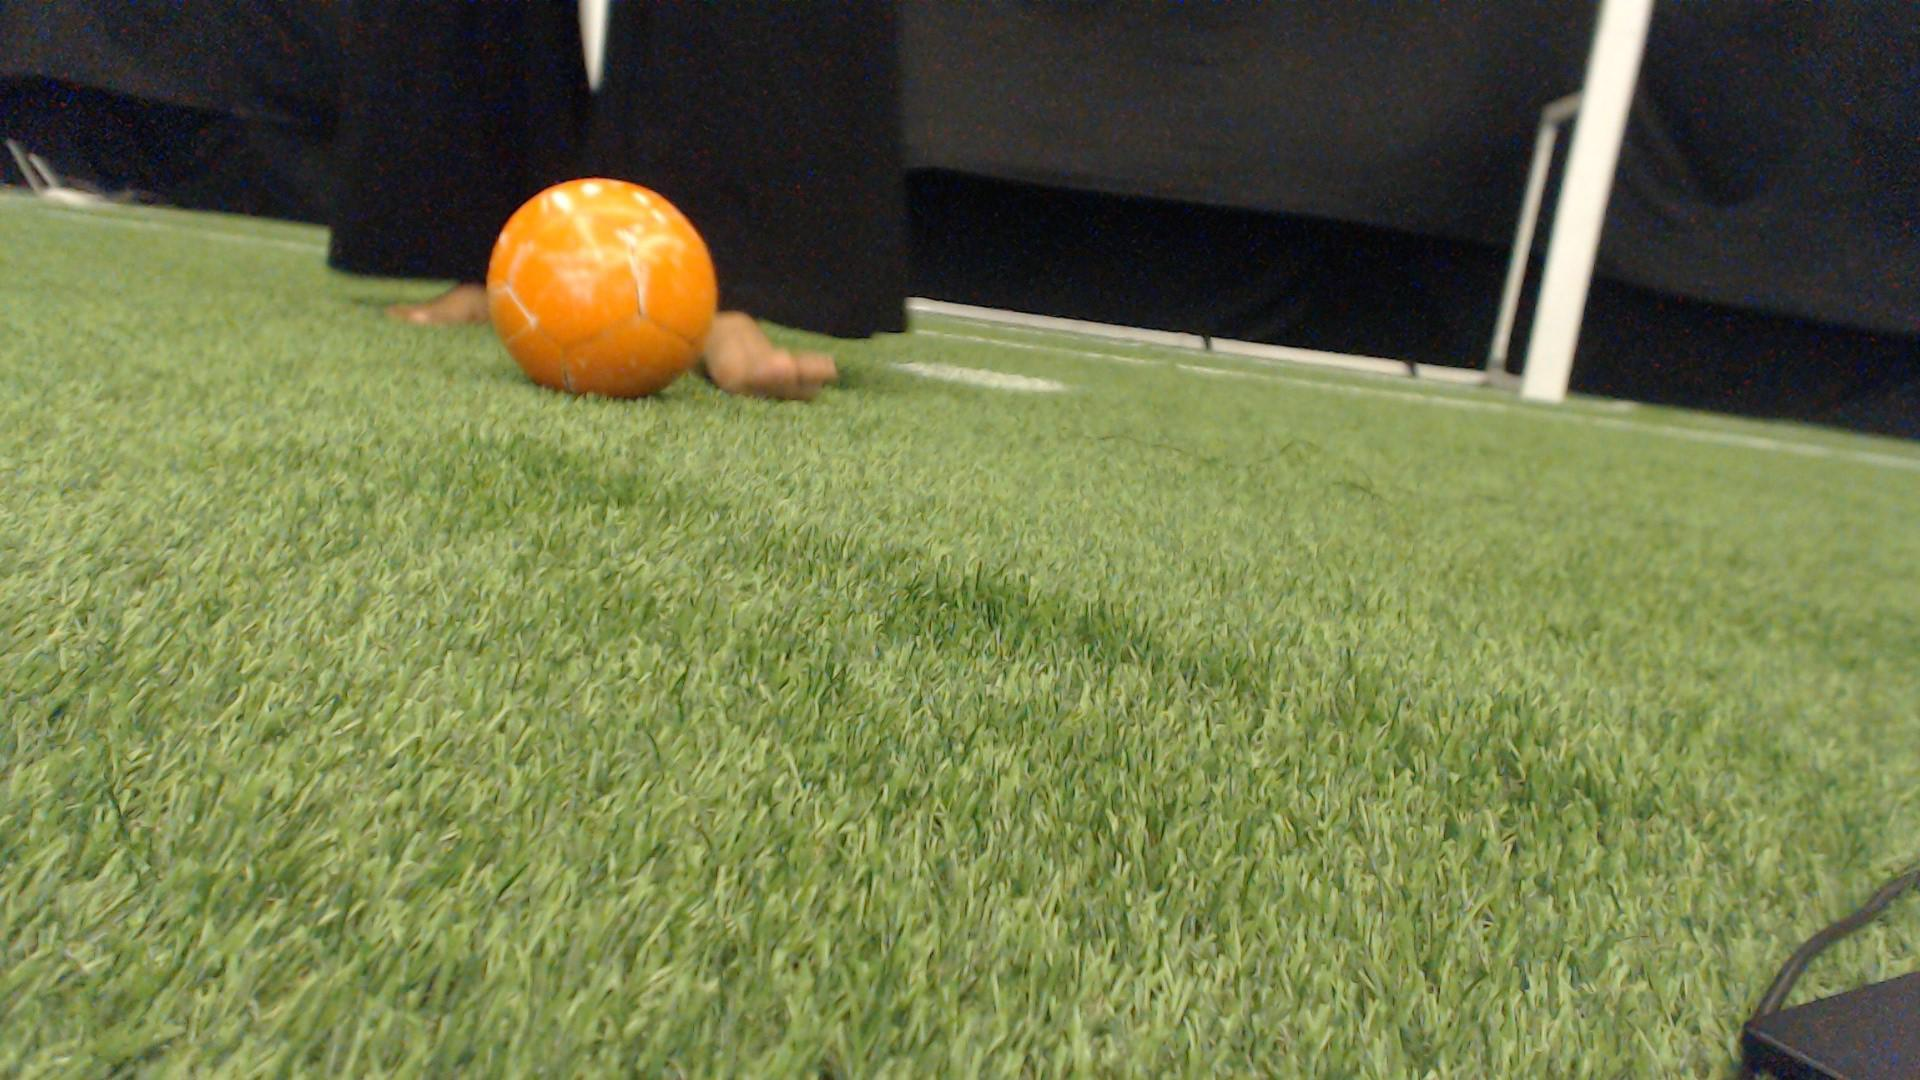bola: (471, 169, 732, 411)
